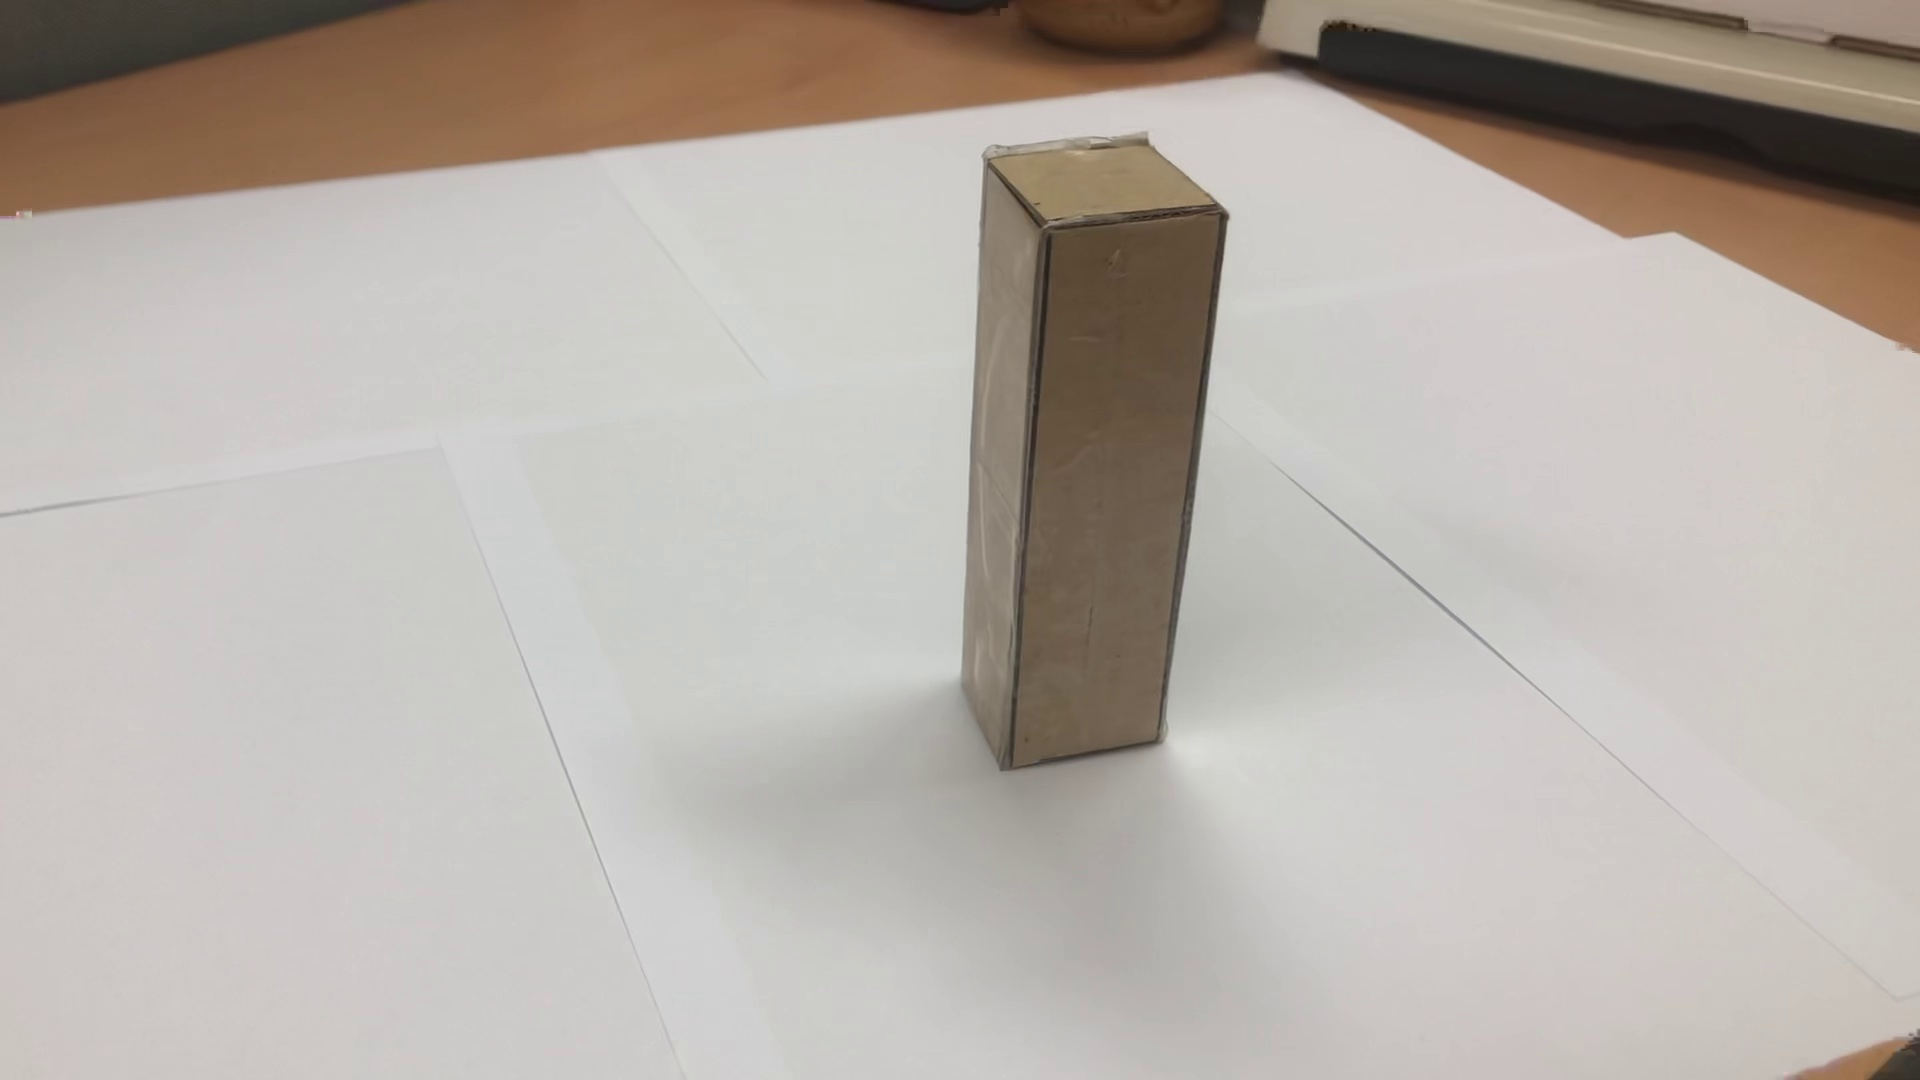box: (905, 123, 1276, 802)
